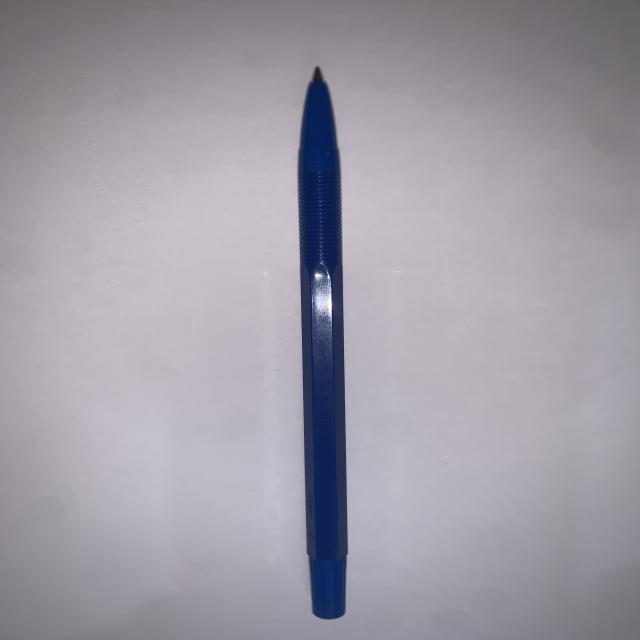Pulpen: (273, 62, 396, 628)
